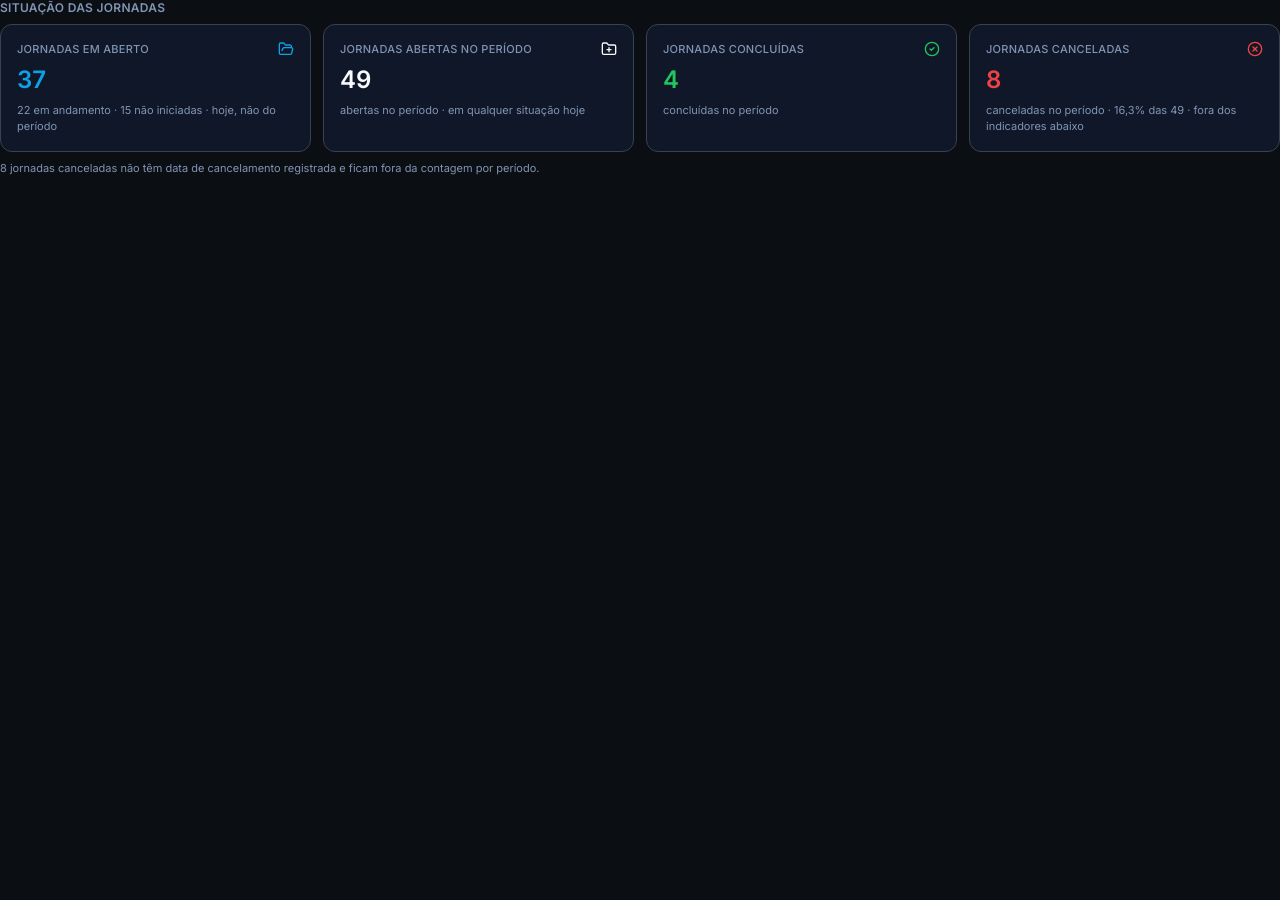
Scenario: SituacaoAgoraBand › drill-down › cada cartão abre a SUA lista
Click the button "Jornadas concluídas 4 concluídas no período" at (734, 49), box [646,24,957,152]
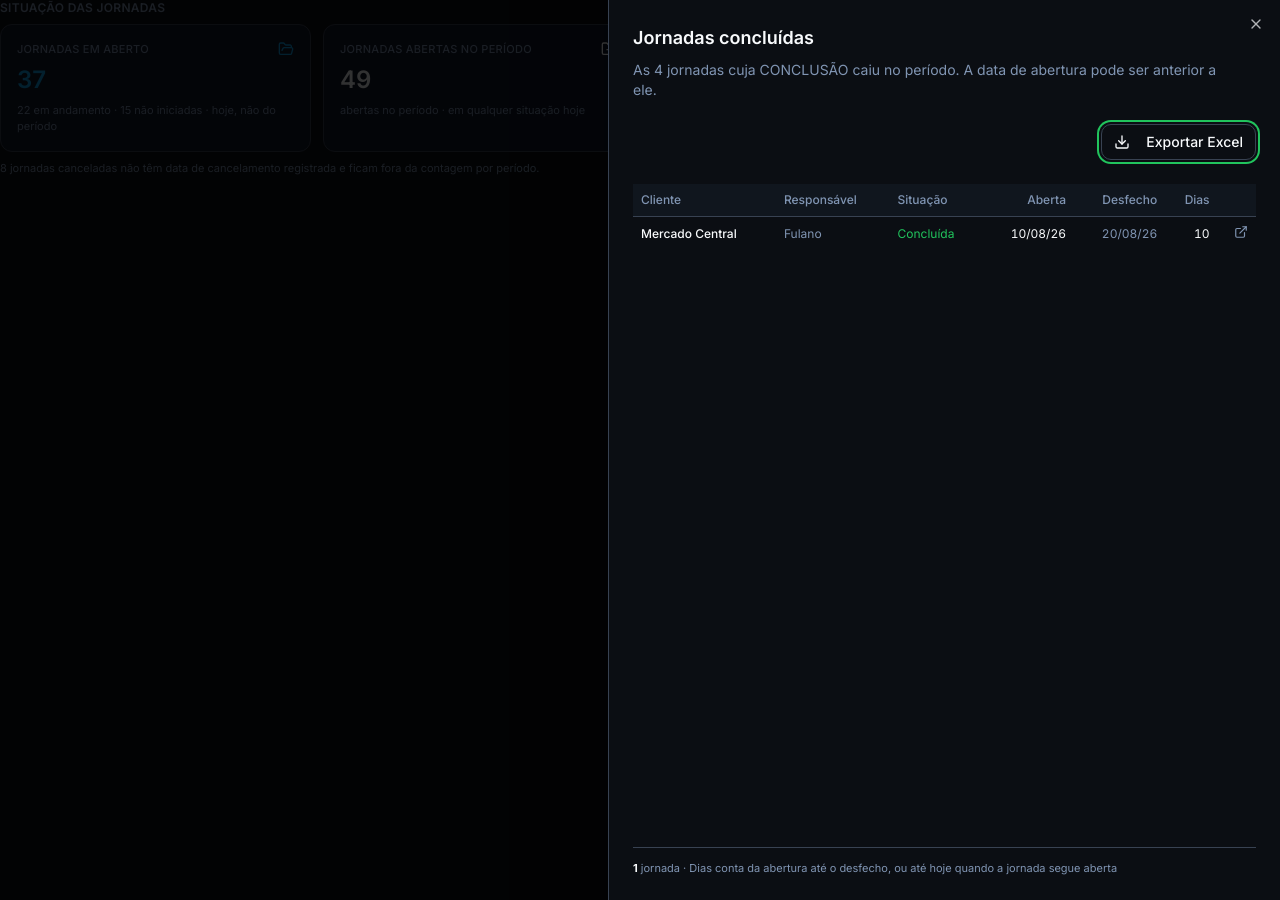
Expected: the text "Mercado Central" is shown, [633,216,776,251]
